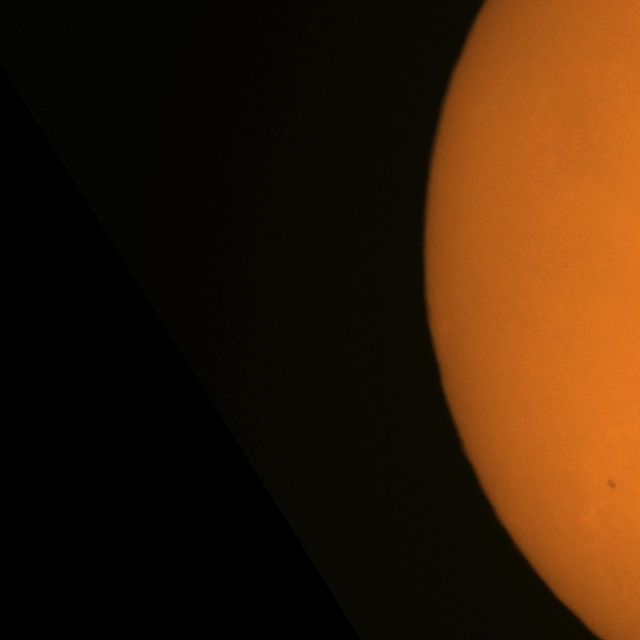sunspot: (605, 478, 618, 492)
